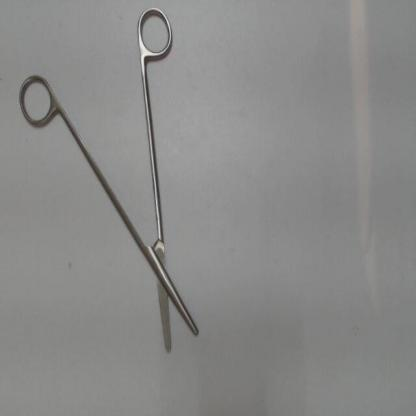9 Metzenbaum Scissors: (15, 2, 206, 354)
